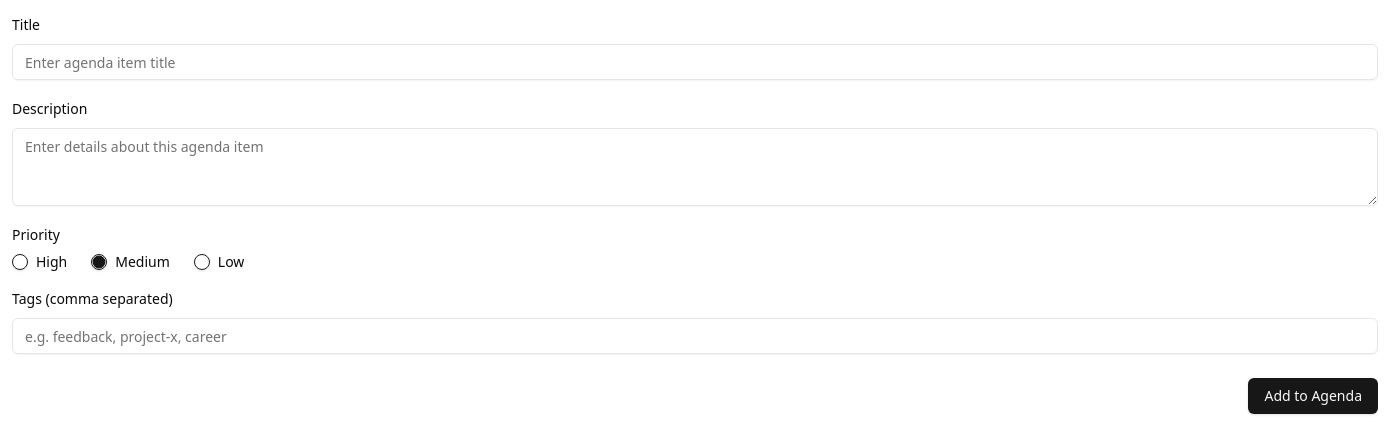
Test: AgendaItemForm › shows loading state during submission
// Fill and submit form
Type "Test Item" into the field labelled "Title" at (695, 62), box left=12, top=44, right=1378, bottom=80
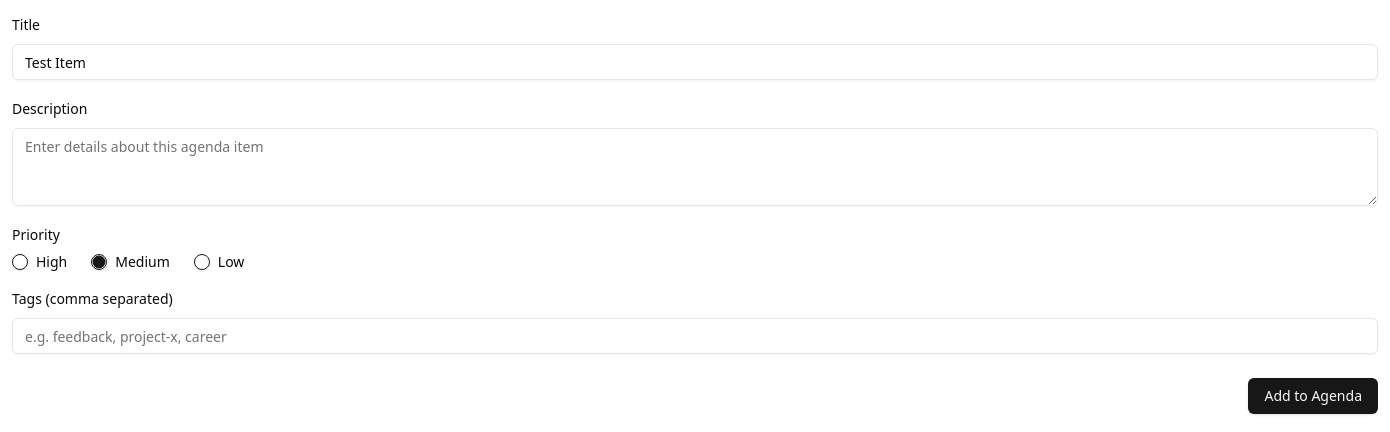
Click the button "Add to Agenda" at (1313, 396), box left=1248, top=378, right=1378, bottom=414
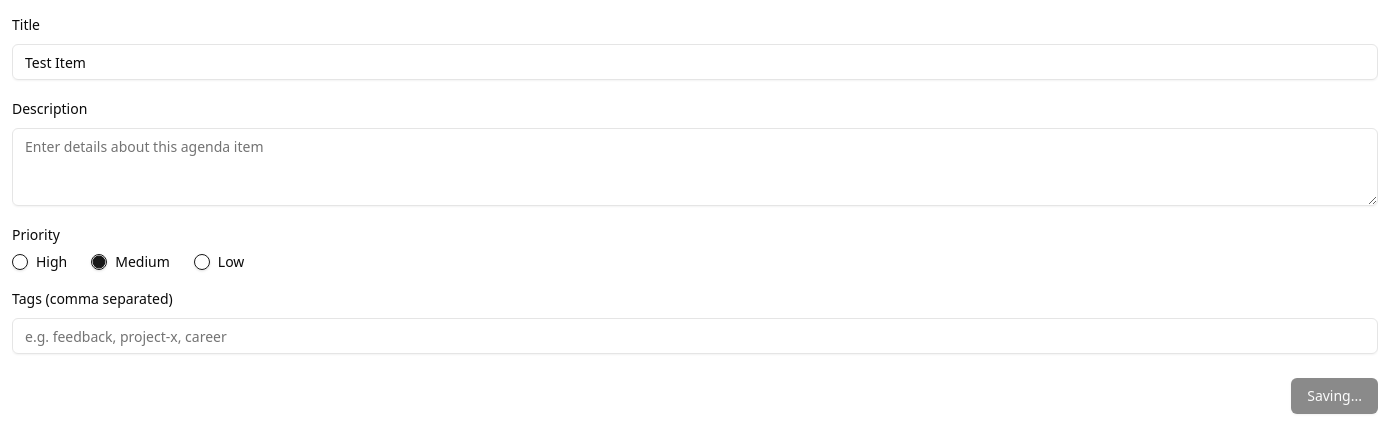
Expected: the button "Saving..." is disabled, left=1291, top=378, right=1378, bottom=414
